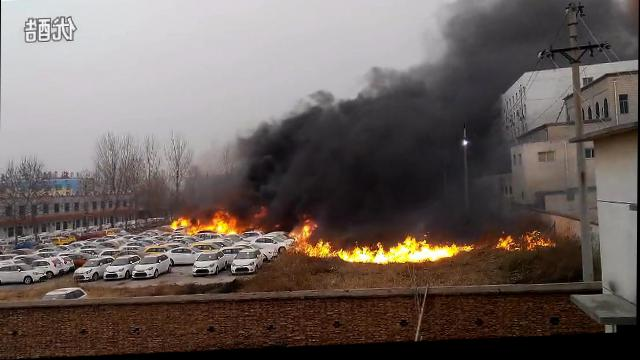fire: (404, 240, 431, 266), (217, 217, 236, 239), (297, 222, 315, 244), (312, 242, 333, 260), (432, 249, 457, 264), (353, 248, 374, 264), (498, 239, 517, 253), (390, 247, 404, 265), (376, 246, 389, 265), (526, 238, 539, 255), (190, 221, 202, 237), (295, 244, 312, 255), (336, 252, 351, 264), (456, 246, 473, 255), (538, 243, 553, 253), (179, 218, 190, 227), (203, 224, 216, 231), (172, 221, 181, 231)
